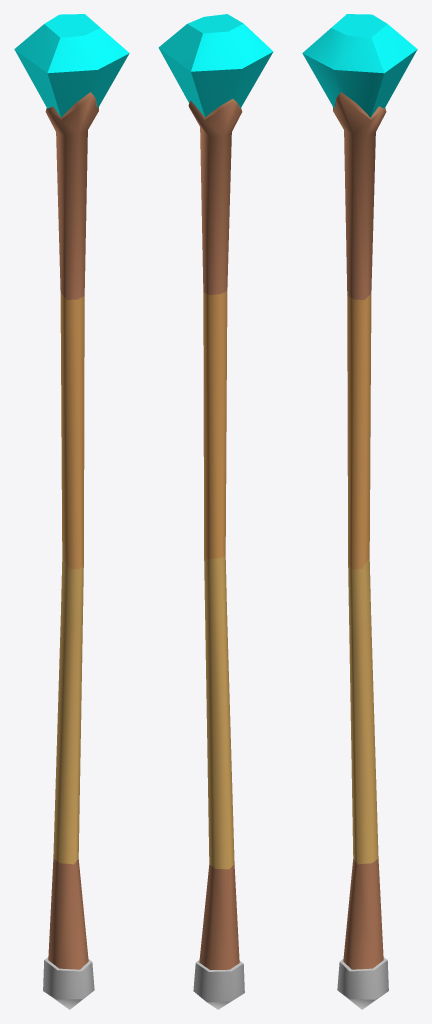
Rendered from lightning_staff.glb.
The picture shows the model from 3 angles, left to right: view 1: azimuth 30°, elevation 25°; view 2: azimuth 210°, elevation 25°; view 3: azimuth 330°, elevation 25°; orthographic projection.
Visible parts, largest first — view 1: Staff00_mesh; view 2: Staff00_mesh; view 3: Staff00_mesh.
Part boxes in pixels (x1,y1,x2,y2): Staff00_mesh: (14,14,129,1009); Staff00_mesh: (158,14,273,1009); Staff00_mesh: (302,14,417,1009).
Size of the model in its own units: 0.0433 by 0.4932 by 0.047.
Materials: 1 (1 with a texture image).
